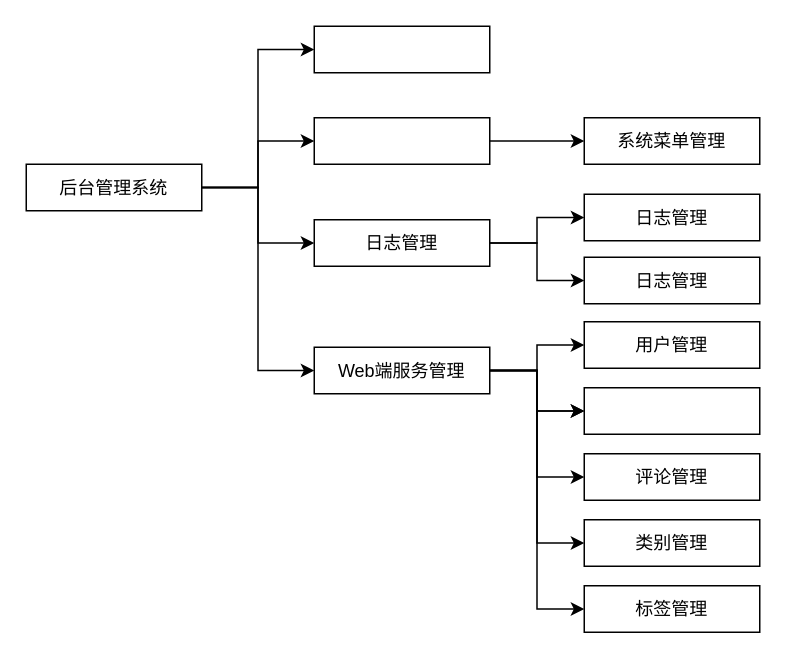
Image size: 786x659. Some labels were removed from this diagram. Each missing label, with the box of its shape:
登录、退出登录: (313, 25, 490, 73)
系统管理: (313, 116, 490, 164)
视频管理: (583, 386, 760, 434)
